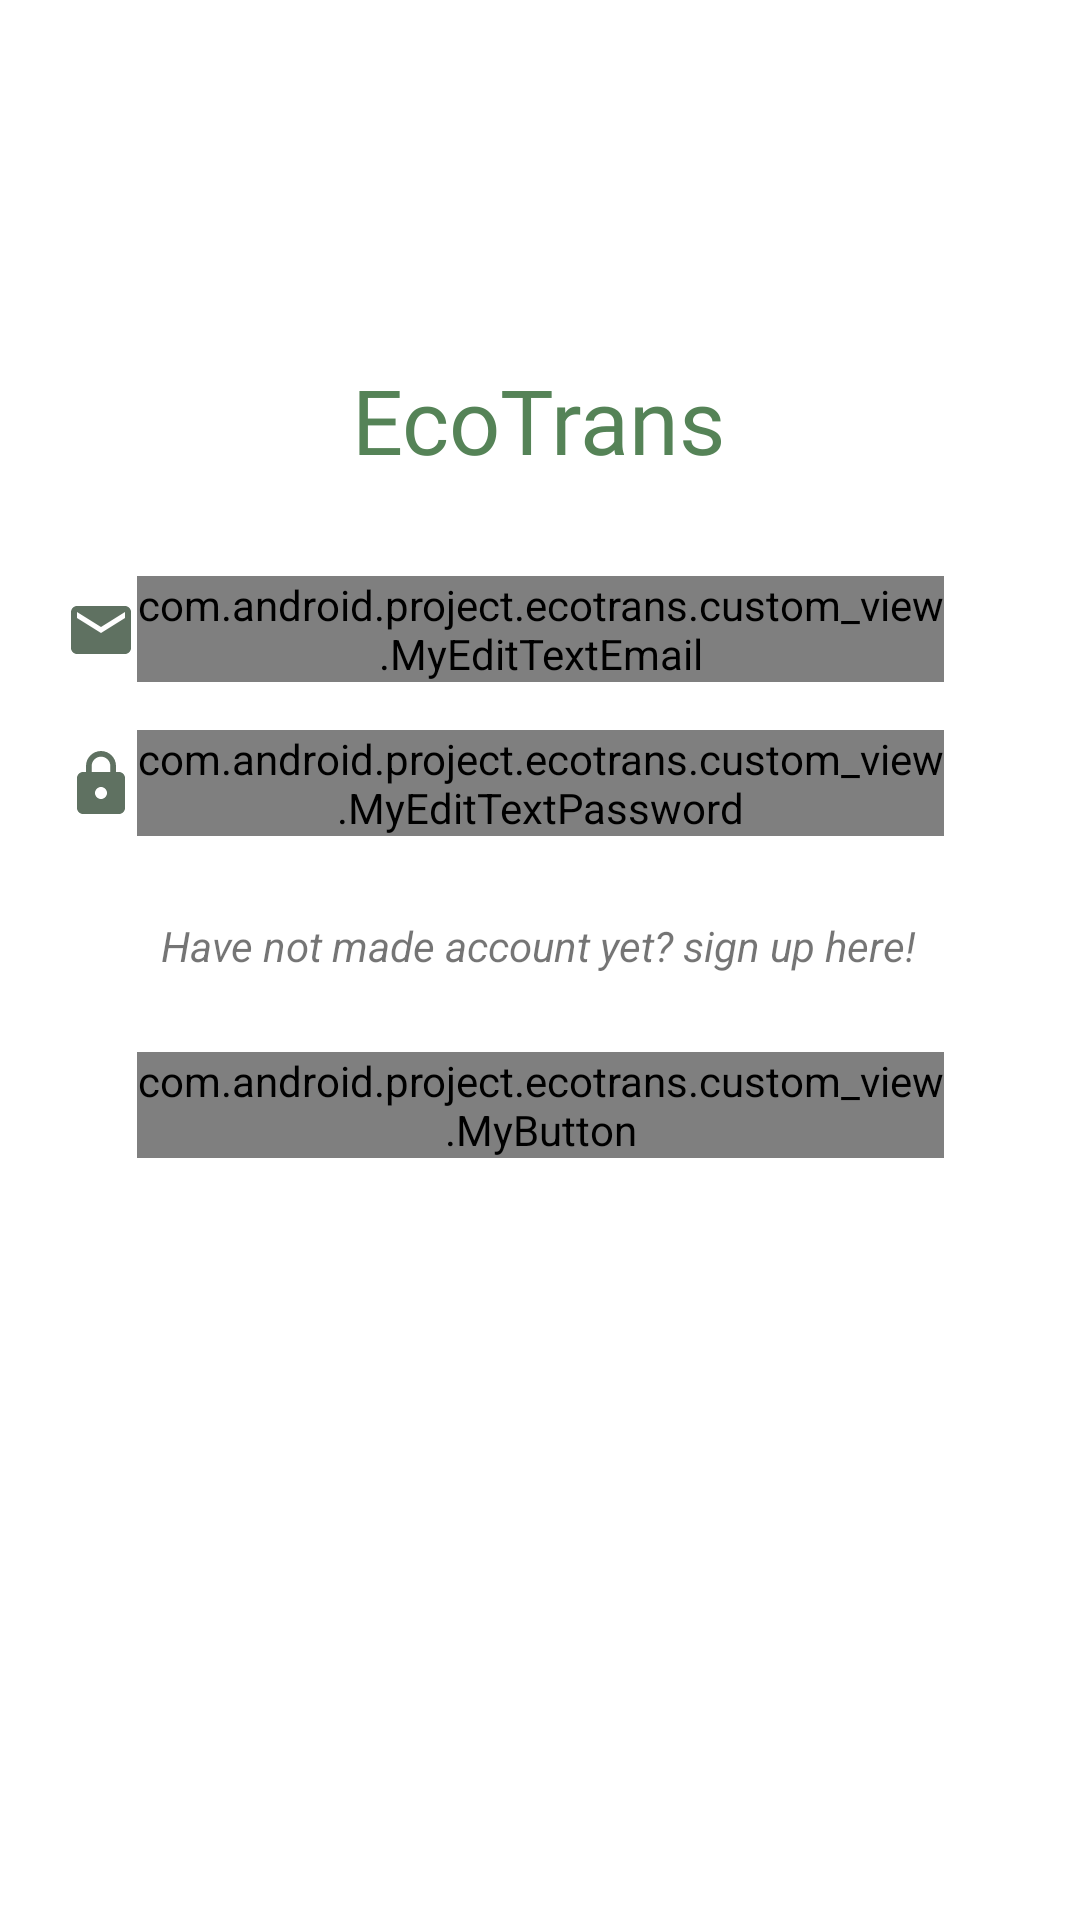

Screen size 1080 × 1920. Icon name, then its center in pixels as point (x, y):
lock: point (101, 782)
